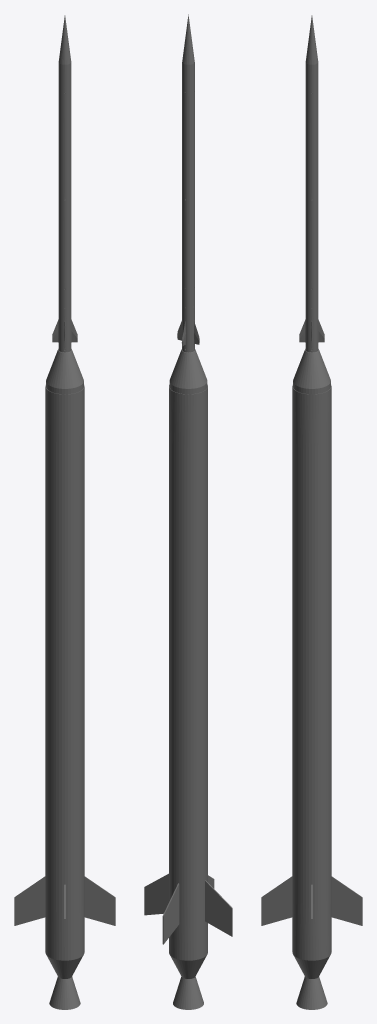
File: DART.glb
3 renders of one model, left to right at view 1: azimuth 90°, elevation 25°; view 2: azimuth 150°, elevation 25°; view 3: azimuth 270°, elevation 25°, orthographic.
Visible parts, largest first — view 1: DART; view 2: DART; view 3: DART.
Boxes of the visible parts, x1,y1,x2,y2 form: DART: (14, 15, 115, 1009); DART: (144, 14, 232, 1009); DART: (261, 15, 362, 1009).
Bounding box in the file's own units: 3.01 × 32.42 × 3.01.
Materials: 1 (1 with a texture image).
